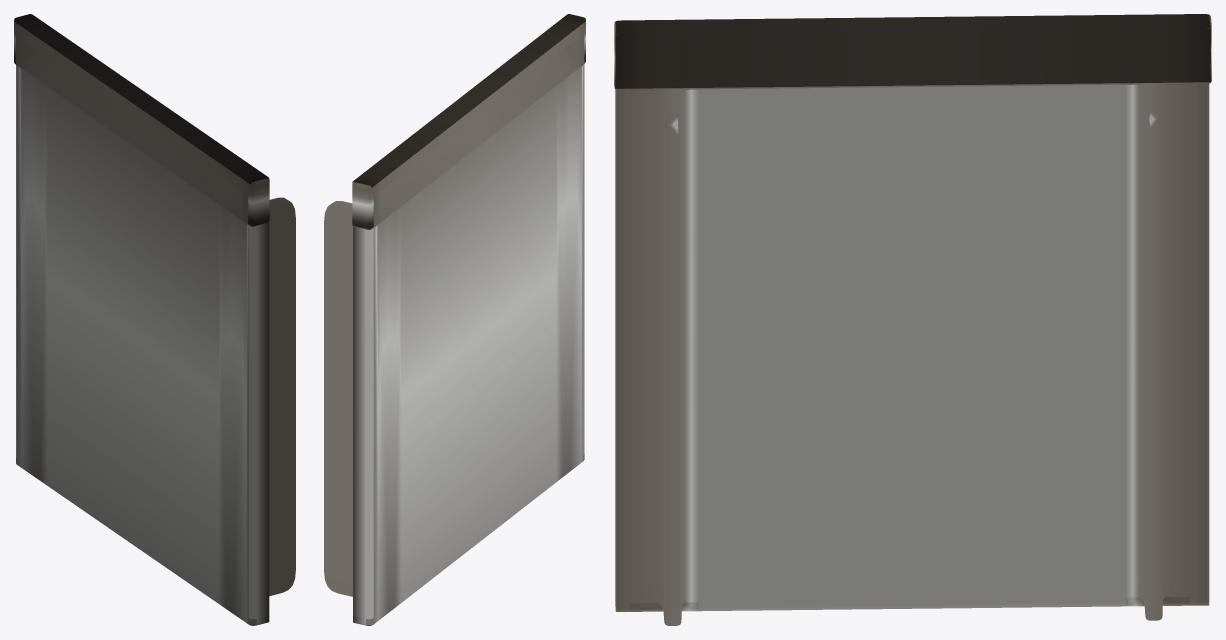
The model's file is refri.obj.
3 renders of one model, left to right at view 1: azimuth 30°, elevation 25°; view 2: azimuth 150°, elevation 25°; view 3: azimuth 270°, elevation 25°, orthographic. The views are drawn at different scales.
Parts seen in each view (by area): view 1: Box046; view 2: Box046; view 3: Box046.
Part boxes in pixels (<box>): Box046: <box>14,14,295,625</box>; Box046: <box>324,14,585,625</box>; Box046: <box>614,14,1211,625</box>.
Size of the model in its own units: 1.64 by 9.29 by 8.67.
1 material, 1 textured.
